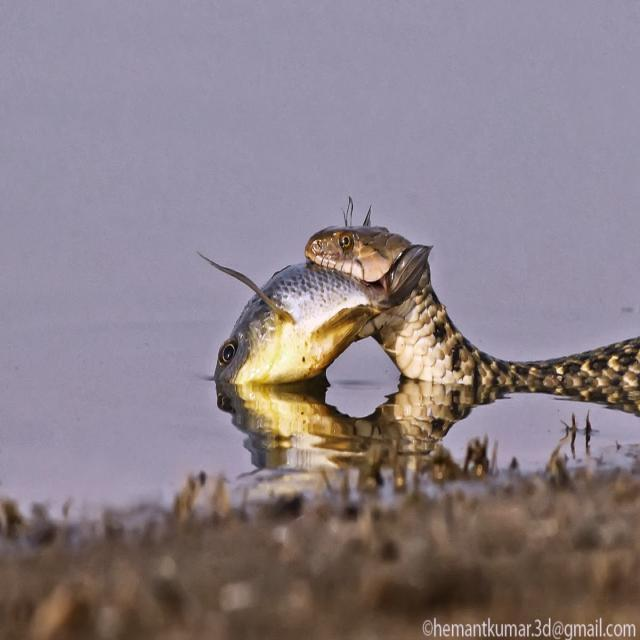Snake: (196, 196, 640, 417)
